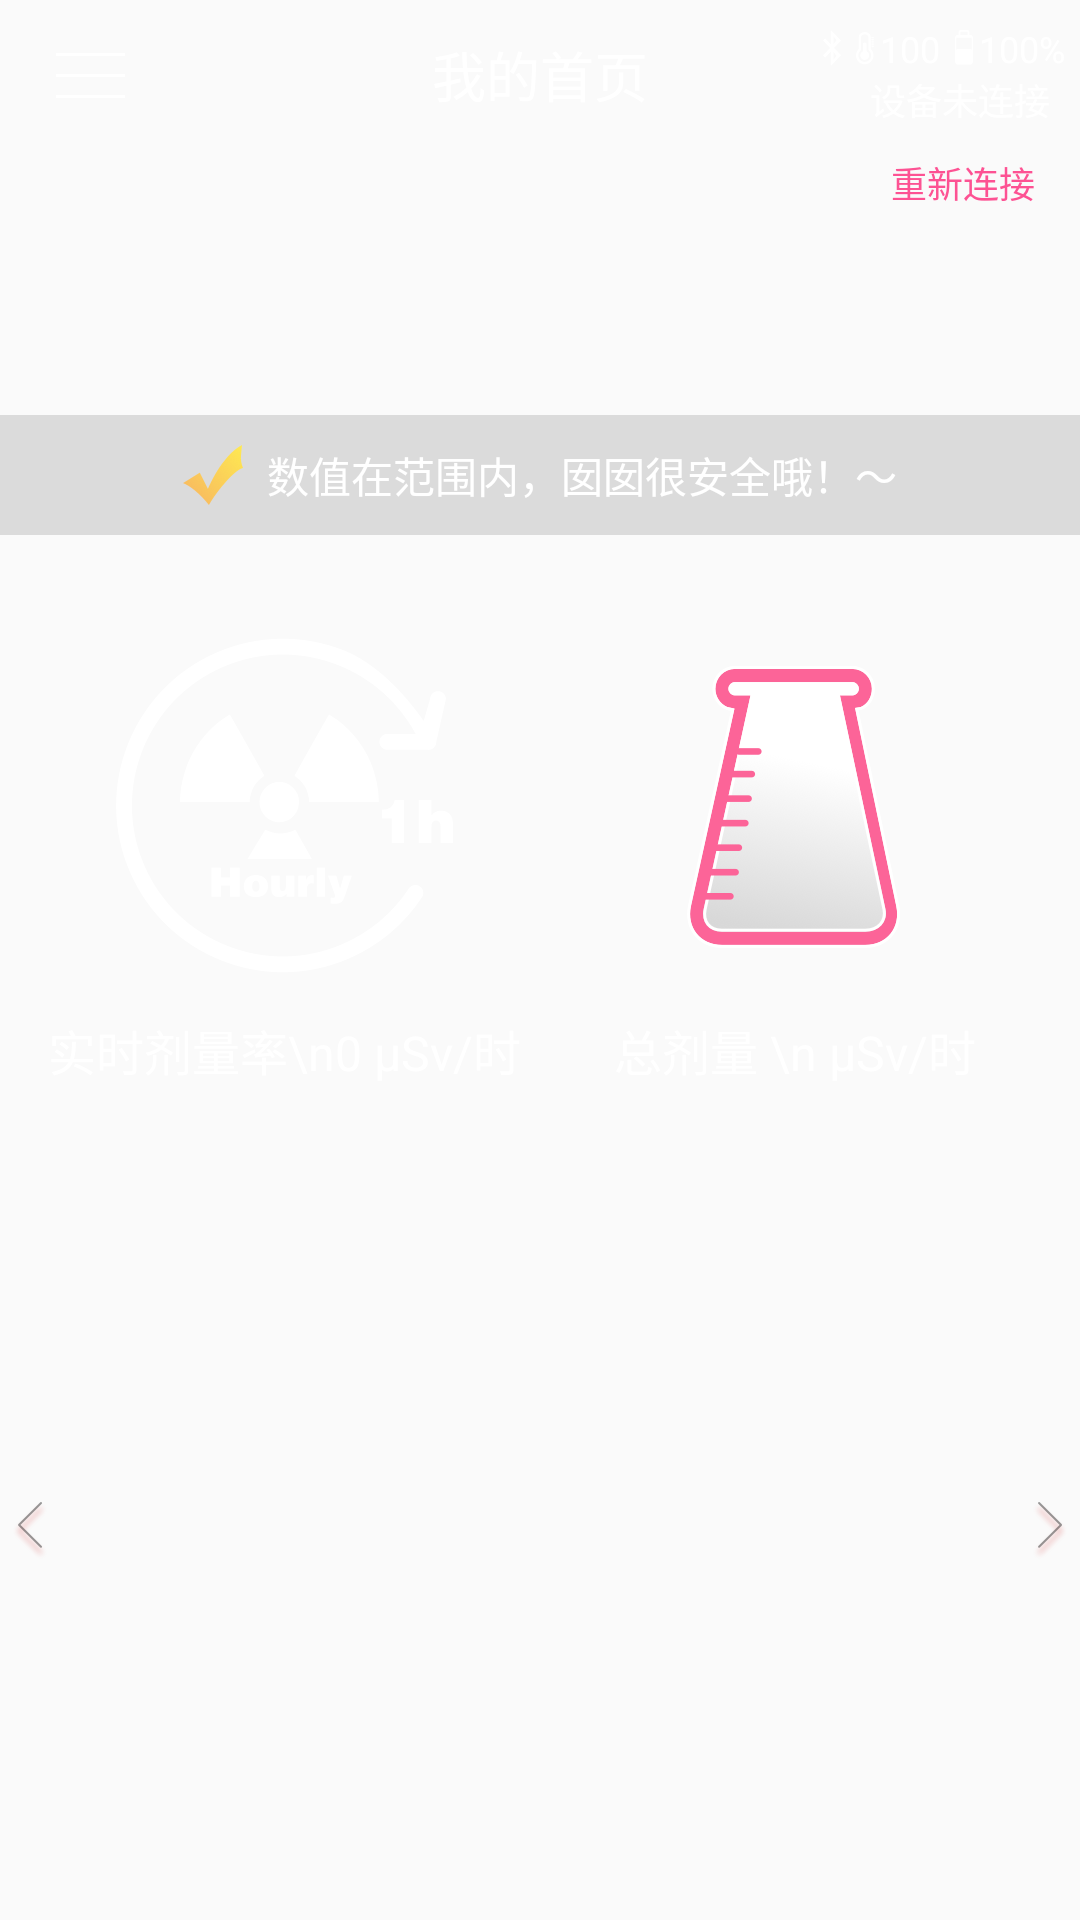

Named icons in this screenshot (1080x1920) and their centers, point (x, y):
home page next arrow: point (1050, 1526)
home page previous arrow: point (30, 1526)
